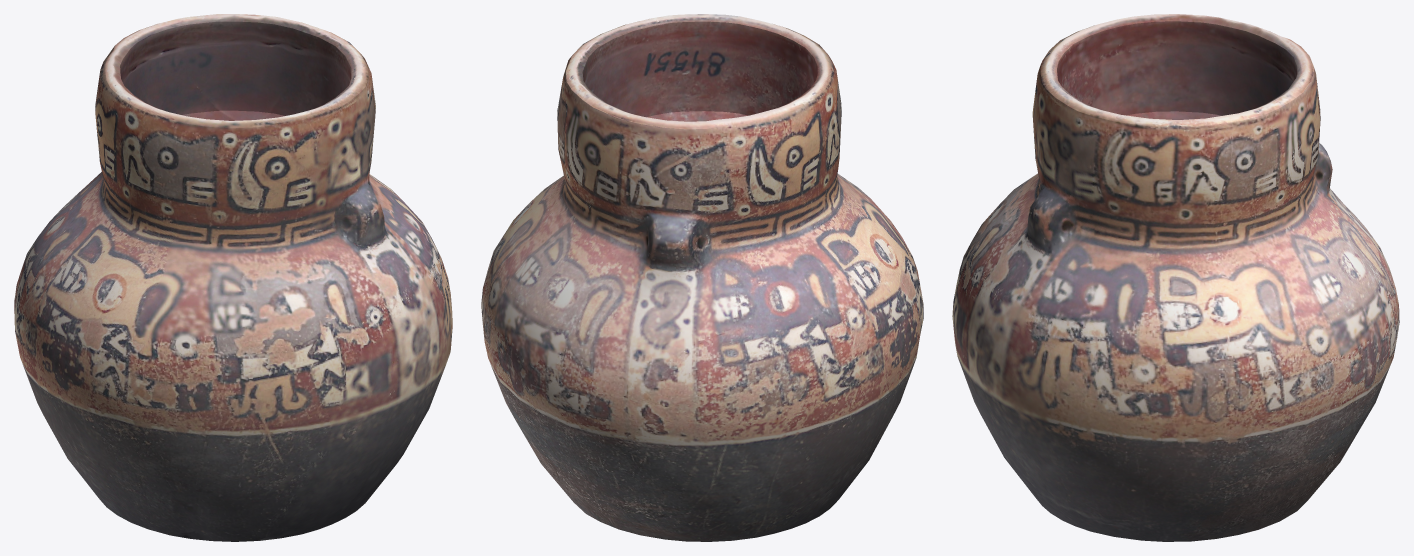
Rendered from objeto01.FBX.
The picture shows the model from 3 angles, left to right: view 1: azimuth 30°, elevation 25°; view 2: azimuth 150°, elevation 25°; view 3: azimuth 270°, elevation 25°; orthographic projection.
Parts seen in each view (by area): view 1: Box001; view 2: Box001; view 3: Box001.
Part boxes in pixels (box(x1,y1,x2,y2)): Box001: box(14, 14, 452, 541); Box001: box(481, 14, 923, 541); Box001: box(952, 14, 1399, 541).
Size of the model in its own units: 76 by 79.23 by 76.76.
